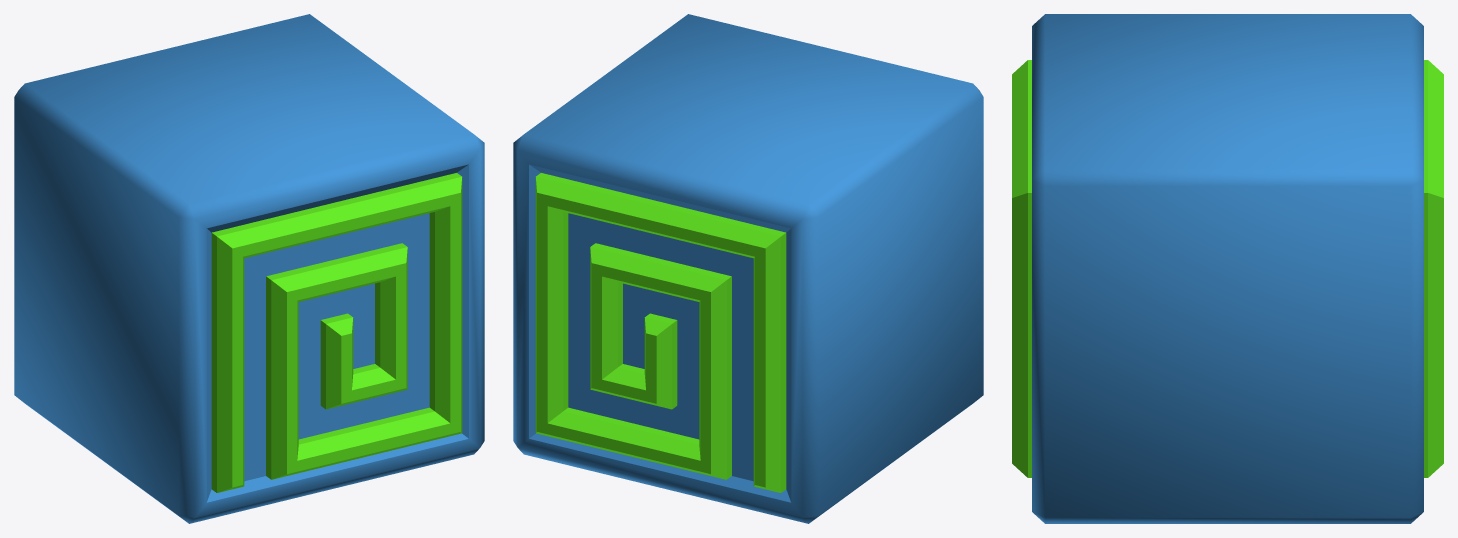
Rendered from Stone_Cube_Ready.fbx.
The picture shows the model from 3 angles, left to right: view 1: azimuth 30°, elevation 25°; view 2: azimuth 150°, elevation 25°; view 3: azimuth 270°, elevation 25°; orthographic projection. The views are drawn at different scales.
Visible parts, largest first — view 1: ChamferBox003; view 2: ChamferBox003; view 3: ChamferBox003.
Boxes of the visible parts, bbox=[...] form: ChamferBox003: bbox=[14, 14, 484, 523]; ChamferBox003: bbox=[513, 14, 983, 523]; ChamferBox003: bbox=[1012, 14, 1443, 523].
Bounding box in the file's own units: 24 × 24 × 26.41.
